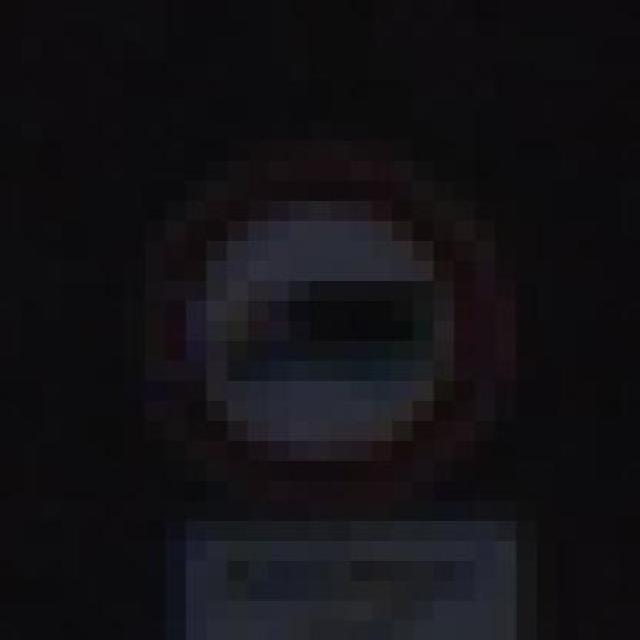Truck traffic is prohibited: (100, 125, 534, 544)
